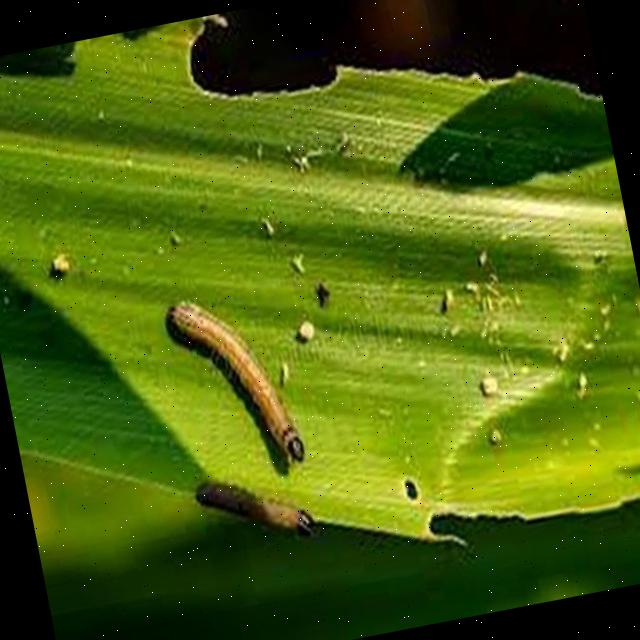worm: (161, 282, 309, 485)
